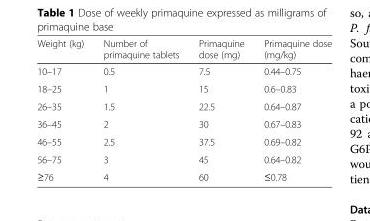table: (36, 37, 331, 182)
table column: (93, 37, 188, 182), (253, 37, 331, 182), (188, 37, 253, 182), (36, 37, 93, 182)
table column header: (36, 37, 331, 62)
table row: (36, 37, 331, 62), (36, 79, 331, 97), (36, 114, 331, 132), (36, 132, 331, 150), (36, 62, 331, 79), (36, 97, 331, 114), (36, 150, 331, 167), (36, 167, 331, 182)
